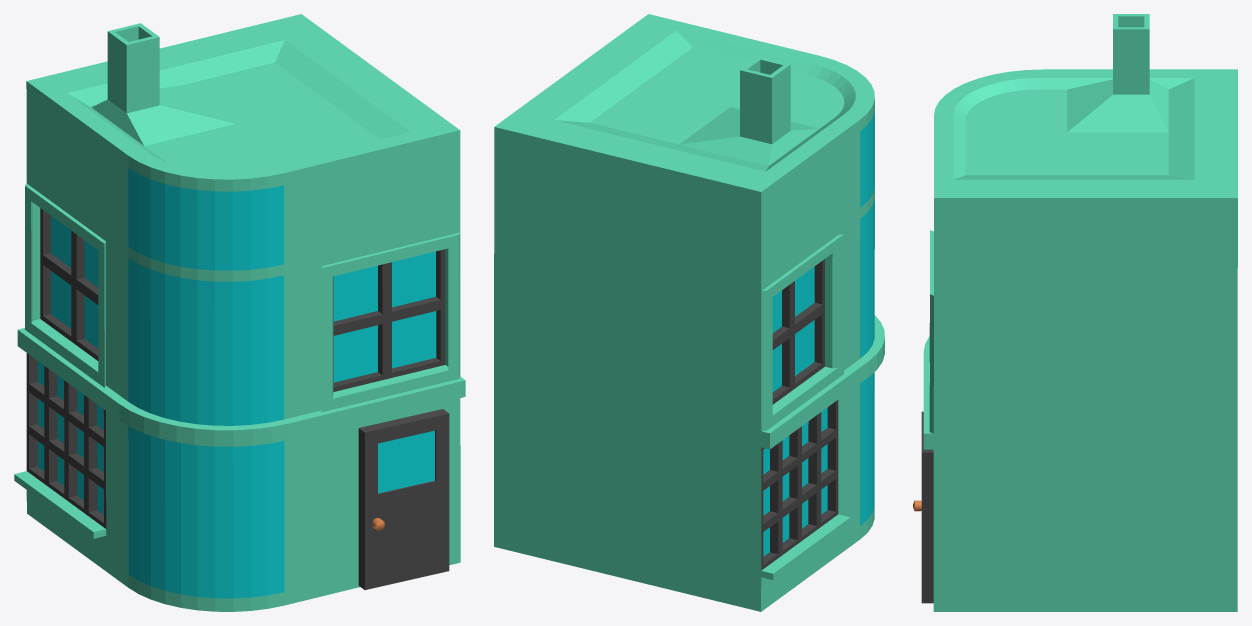
Rendered from Almost Blue curved building.fbx.
3 views of the same model, side by side, from view 1: azimuth 30°, elevation 25°; view 2: azimuth 150°, elevation 25°; view 3: azimuth 270°, elevation 25° (orthographic). The views are drawn at different scales.
Visible parts, largest first — view 1: Cube.003, Cube.007; view 2: Cube.003; view 3: Cube.003, Cube.007.
Boxes of the visible parts, bbox=[...] form: Cube.003: bbox=[14, 14, 465, 611]; Cube.007: bbox=[358, 409, 449, 589]; Cube.003: bbox=[494, 14, 884, 611]; Cube.003: bbox=[923, 14, 1237, 611]; Cube.007: bbox=[921, 411, 933, 603].
Bounding box in the file's own units: 2090 × 3525 × 2135.
